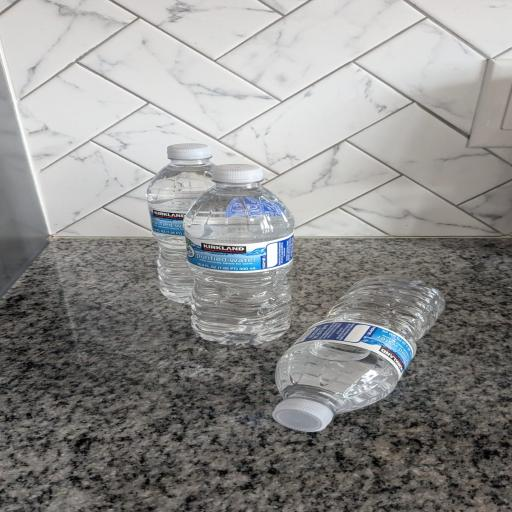waterbottle: (273, 276, 444, 431), (185, 165, 293, 345), (147, 144, 214, 303)
